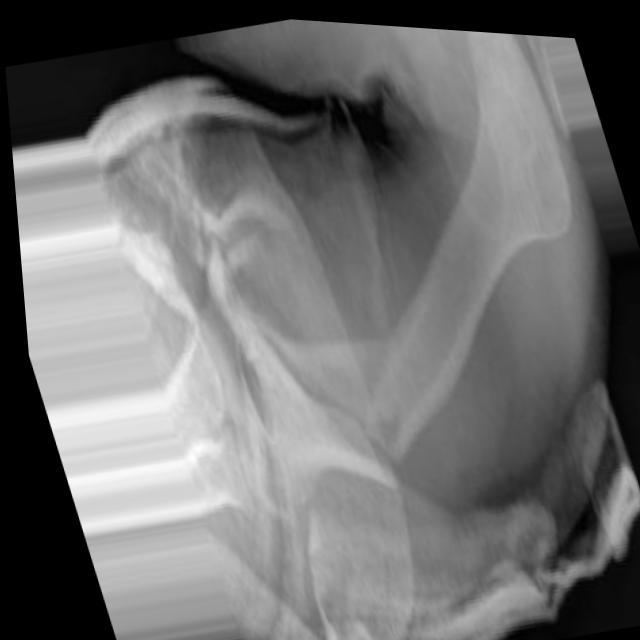fracture: (326, 357, 419, 523)
